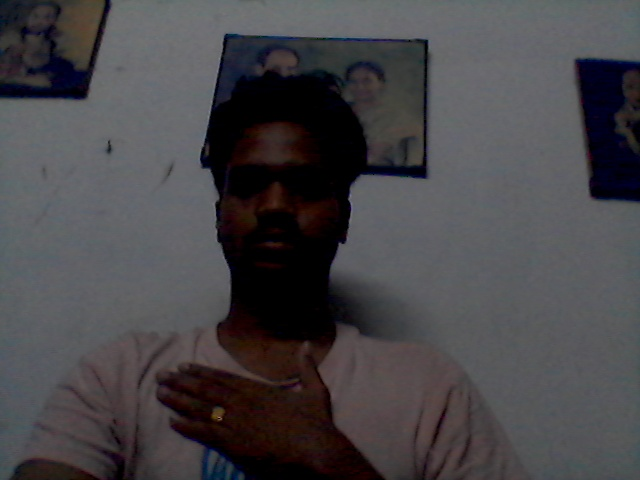Fine: (145, 336, 349, 480)
